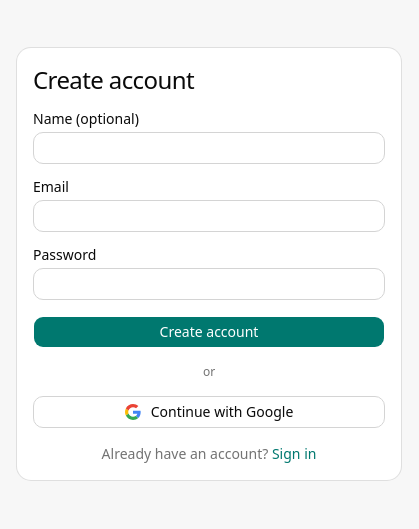
RegisterForm › shows the mutation error message on failed registration
The width and height of the screenshot is (419, 529).
Type "dup@b.com" into the field labelled "Email". click: (209, 216)
box: [33, 200, 385, 232]
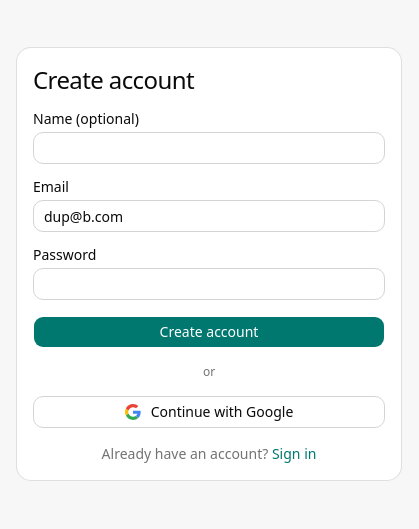
Type "longenoughpw" into the password field labelled "Password". click: (209, 284)
box: [33, 268, 385, 300]
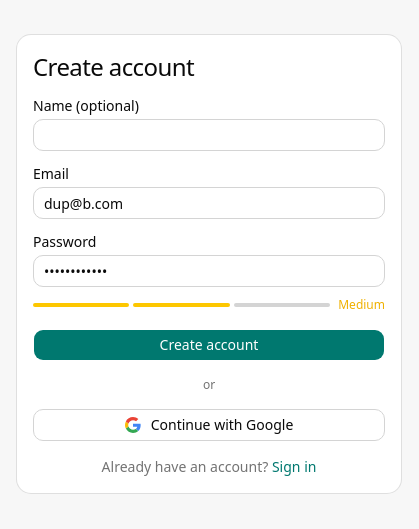
Click the button "Create account". click: (209, 345)
box: [33, 329, 385, 361]
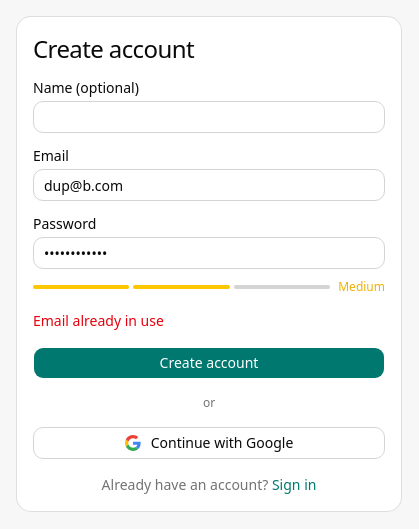
Expected: the text "Email already in use" is shown, [33, 311, 164, 330]
